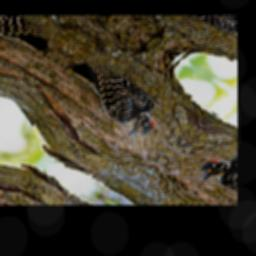Woodpecker: (45, 55, 174, 143)
